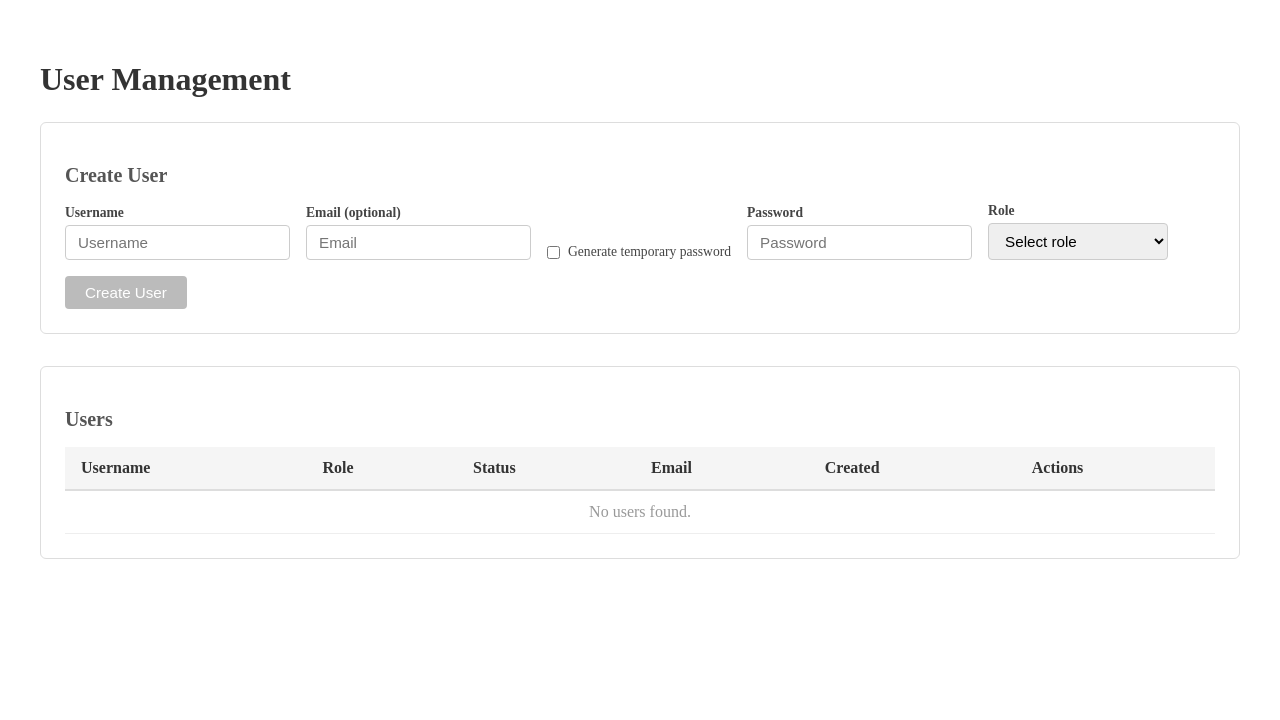
it: UserManagementView › displays temp password once when email_sent is false
Type "carol" into the field with id "create-username" at (178, 242), box [65, 225, 290, 260]
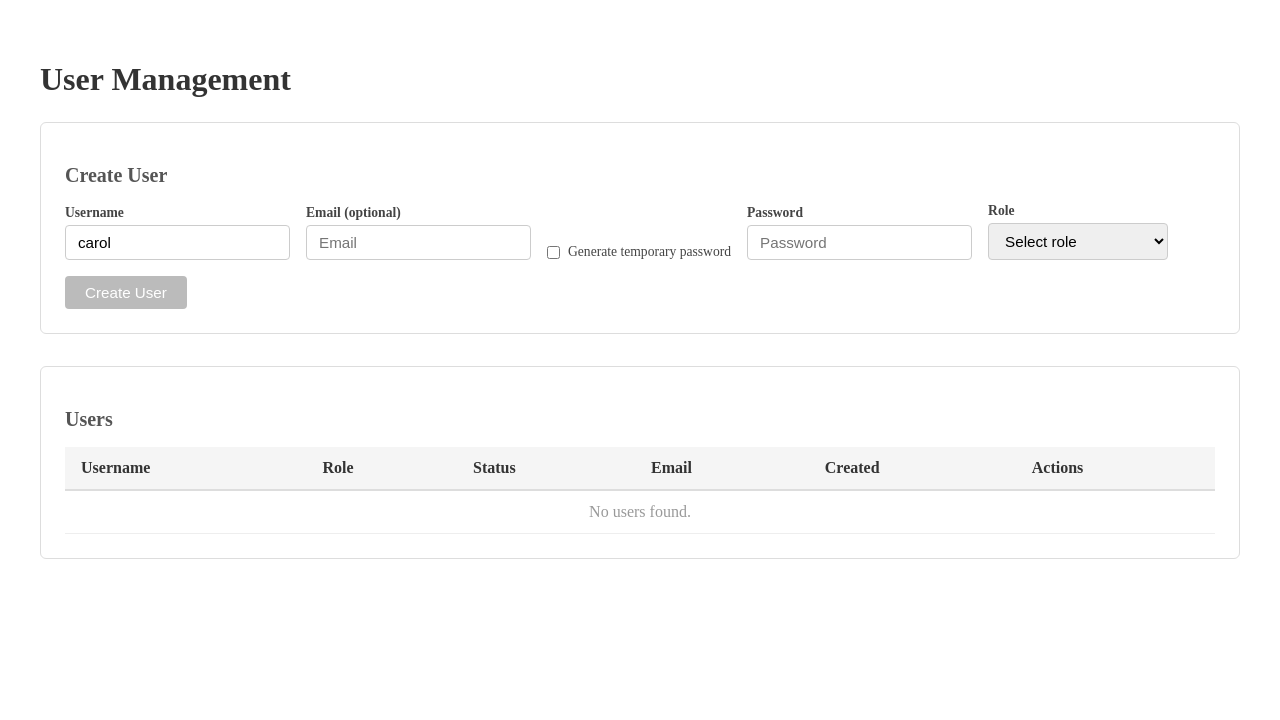
Type "carol@example.com" into the field with id "create-email" at (418, 242), box [306, 225, 531, 260]
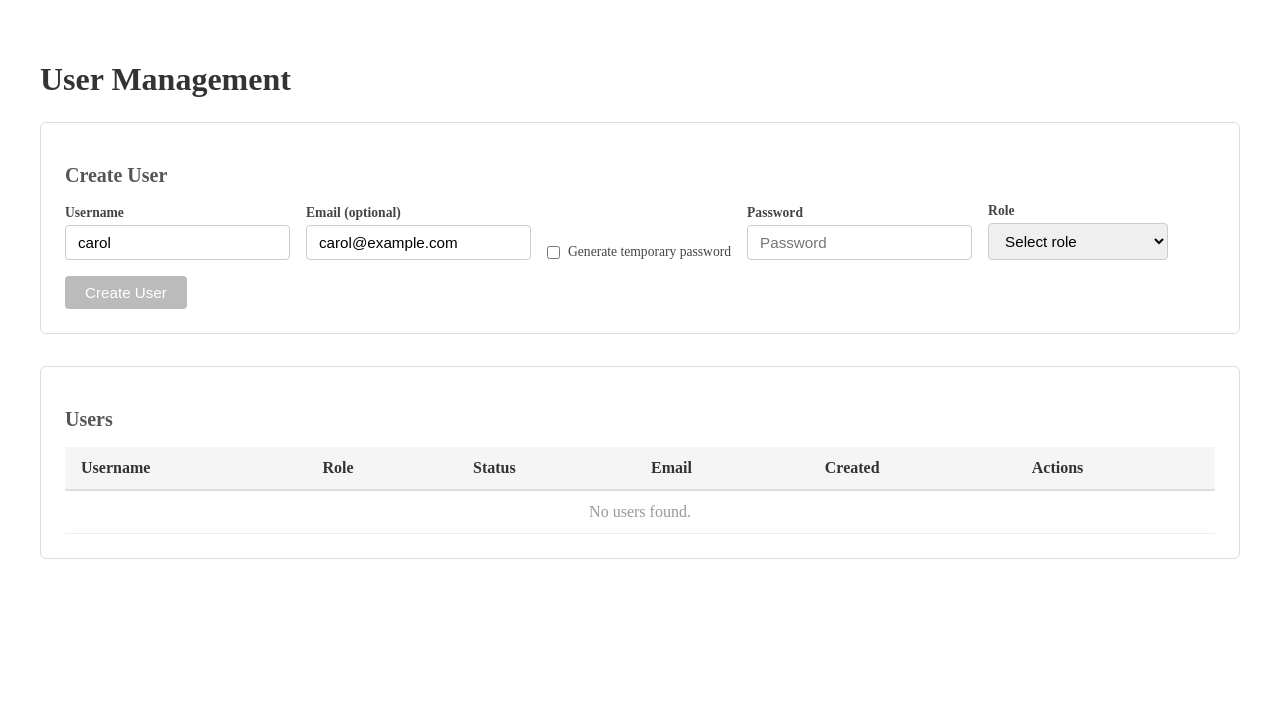
Click the checkbox with id "generate-password" at (554, 252), box [547, 246, 560, 258]
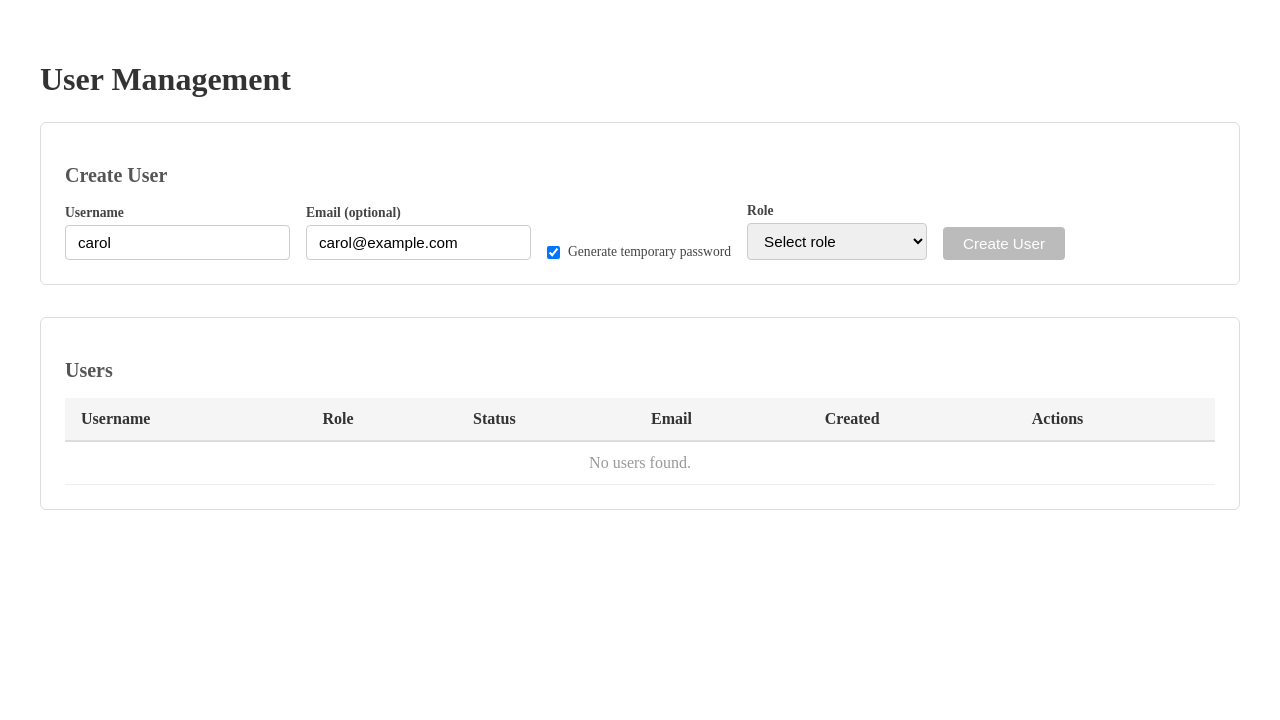
Select "student" in the dropdown with id "create-role" at (837, 242), box [747, 223, 927, 260]
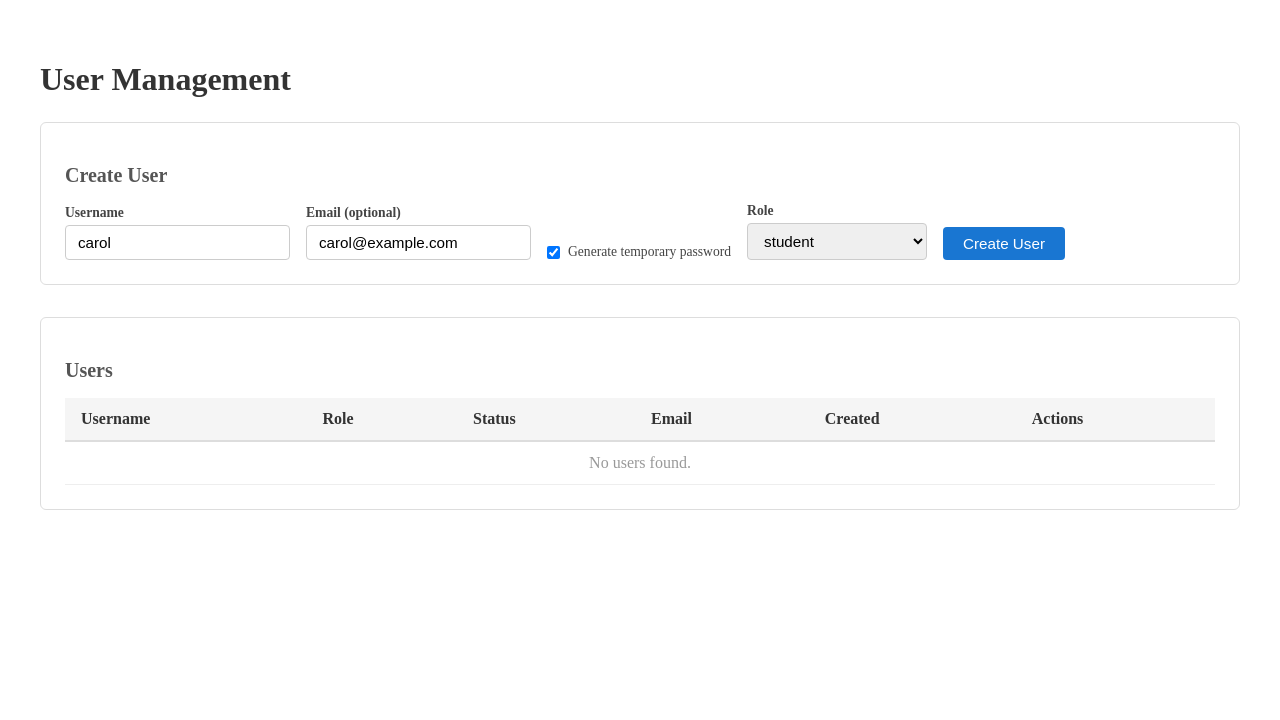
Submit the form with class "create-form", box [65, 203, 1215, 260]
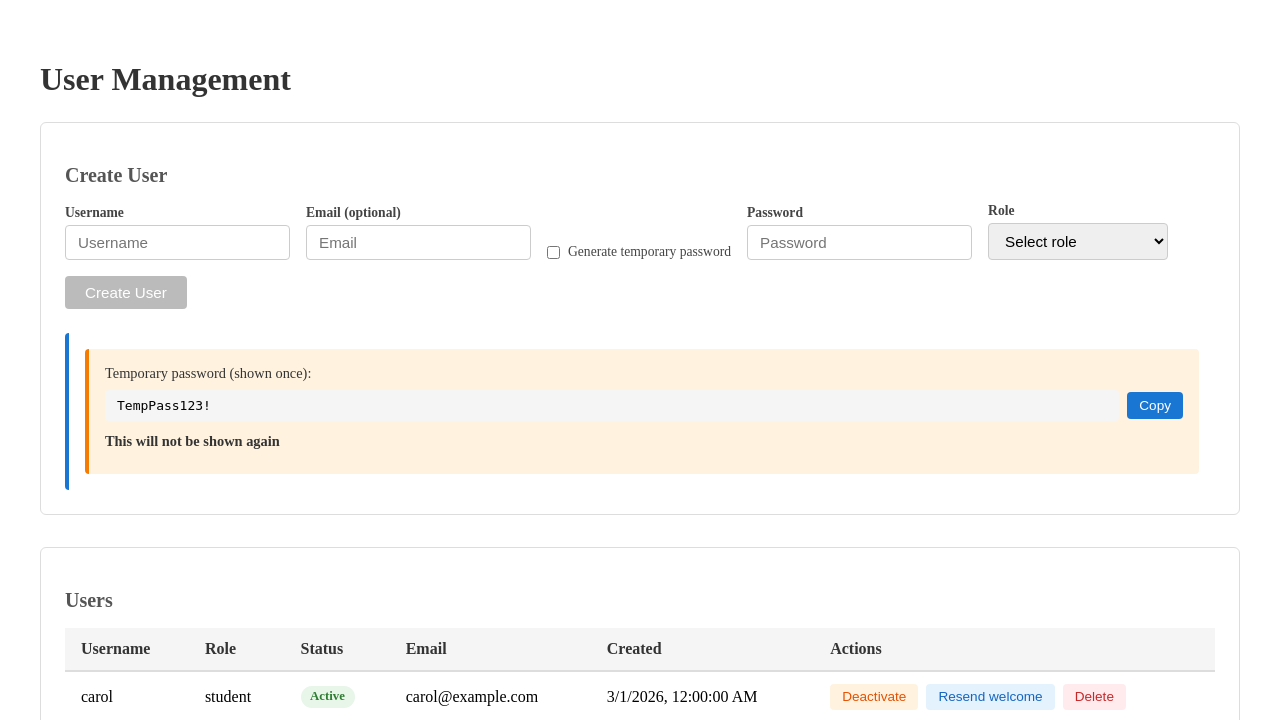
Expected: the element with class "temp-password-message" is shown, [85, 349, 1199, 474]
Expected: the element with class "temp-password-message" shows "TempPass123!", [117, 398, 211, 413]
